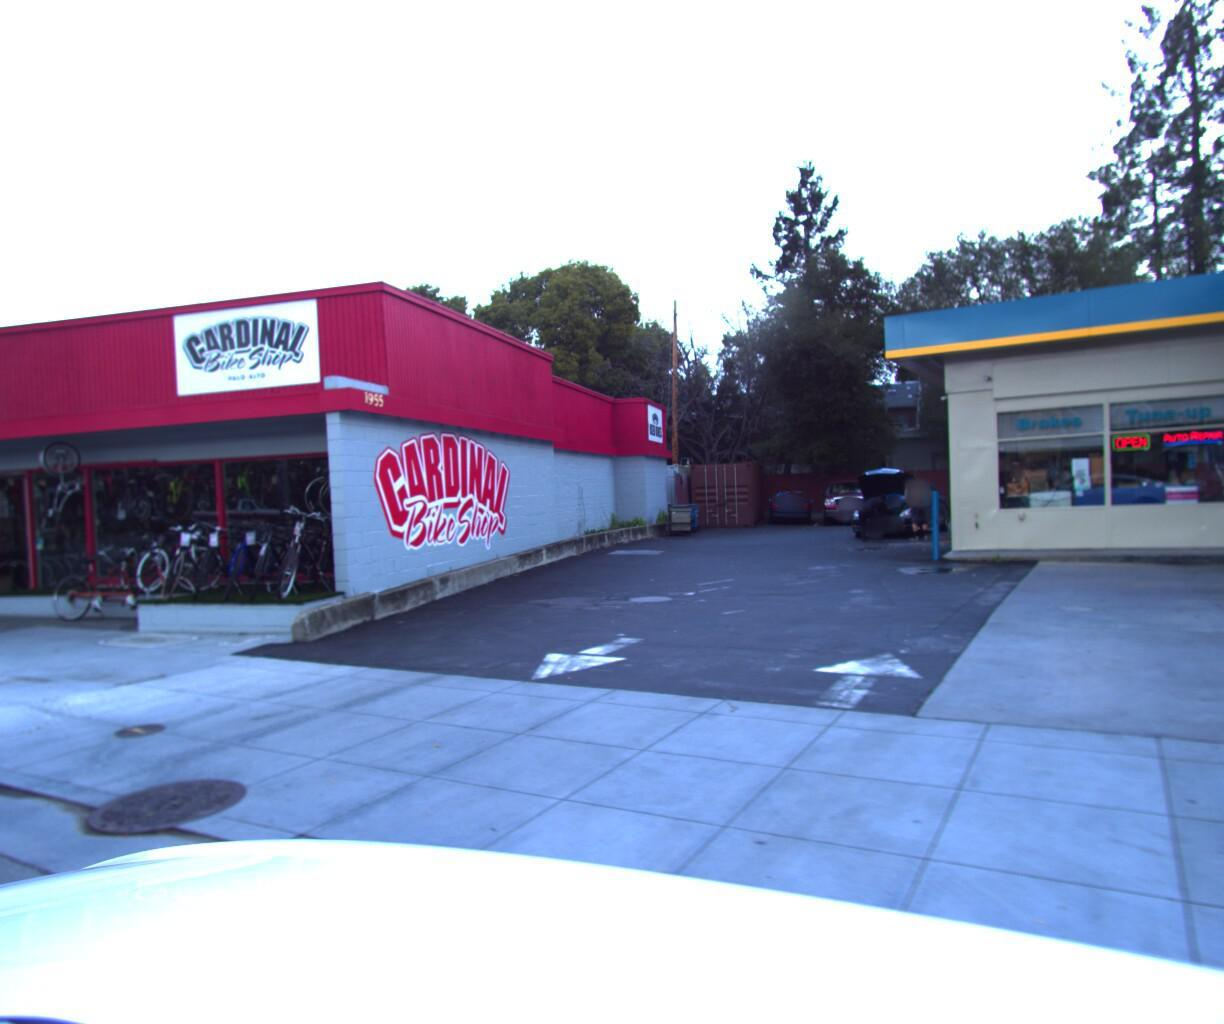bicycle: (243, 497, 364, 603), (136, 514, 259, 603), (164, 513, 285, 603), (217, 511, 338, 602), (195, 513, 313, 603), (112, 513, 238, 588), (64, 541, 181, 619)
